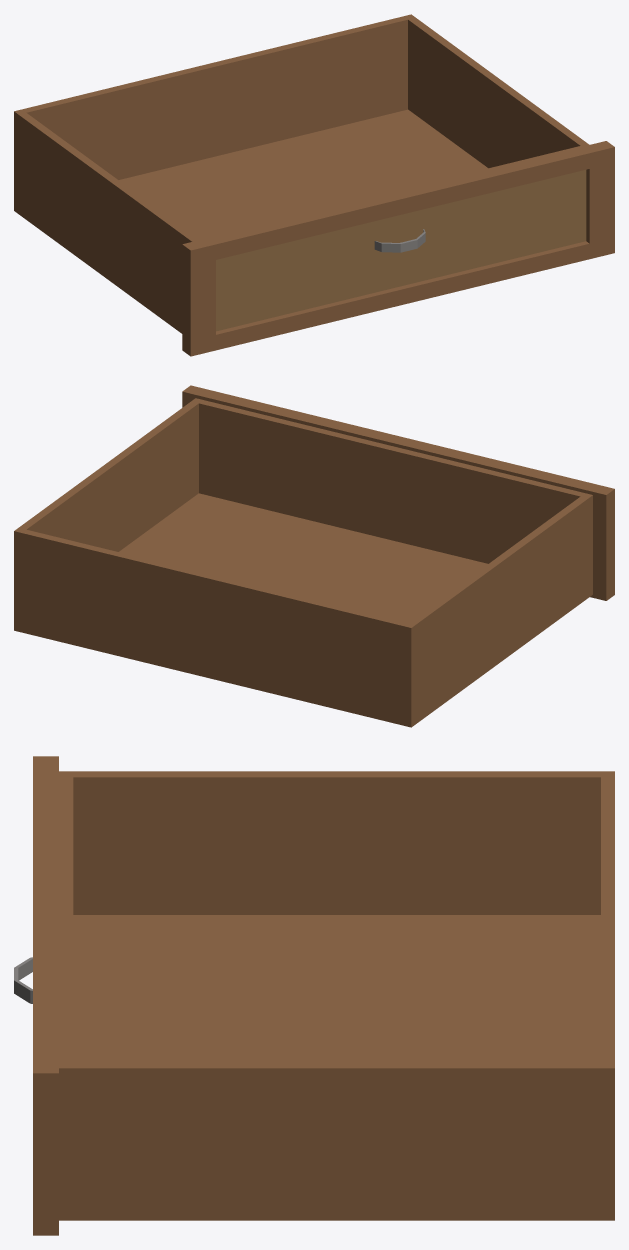
File: Cupboard_06_02.fbx
3 renders of one model, top to bottom at view 1: azimuth 30°, elevation 25°; view 2: azimuth 150°, elevation 25°; view 3: azimuth 270°, elevation 25°, orthographic. The views are drawn at different scales.
Parts seen in each view (by area): view 1: Cupboard_06_02; view 2: Cupboard_06_02; view 3: Cupboard_06_02.
Part boxes in pixels (x1,y1,x2,y2): Cupboard_06_02: [14, 14, 614, 356]; Cupboard_06_02: [14, 385, 614, 727]; Cupboard_06_02: [14, 756, 614, 1235].
Size of the model in its own units: 65.03 by 15.53 by 52.14.
